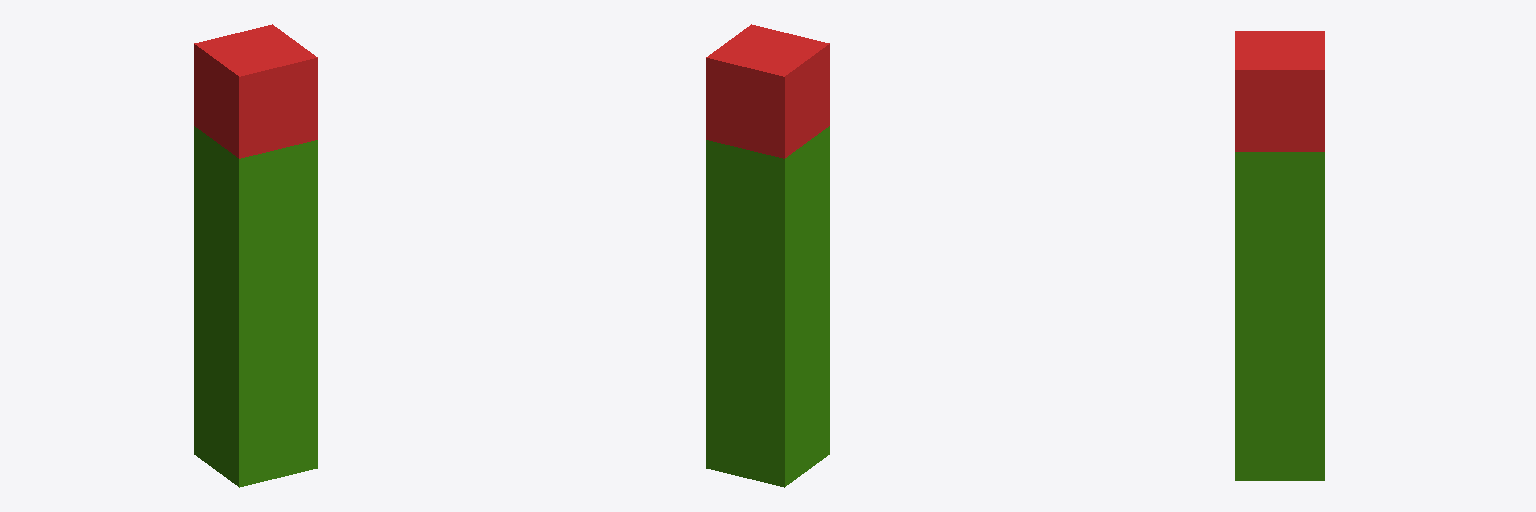
3 renders of one model, left to right at view 1: azimuth 30°, elevation 25°; view 2: azimuth 150°, elevation 25°; view 3: azimuth 270°, elevation 25°, orthographic.
Parts seen in each view (by area): view 1: object 1; view 2: object 1; view 3: object 1.
Part boxes in pixels (left/top/right/bottom): object 1: left=194, top=24, right=317, bottom=487; object 1: left=706, top=24, right=829, bottom=487; object 1: left=1235, top=31, right=1324, bottom=480.
Bounding box in the file's own units: 0.1 × 0.5 × 0.1.
1 materials, 1 textured.